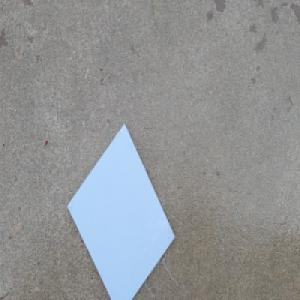PaintChip: (66, 120, 176, 300)
